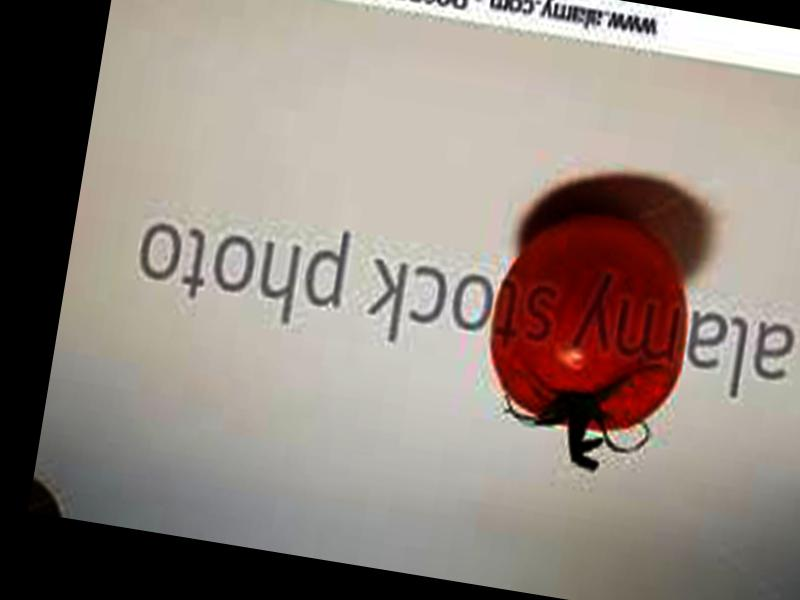Tomato: (476, 200, 703, 445)
